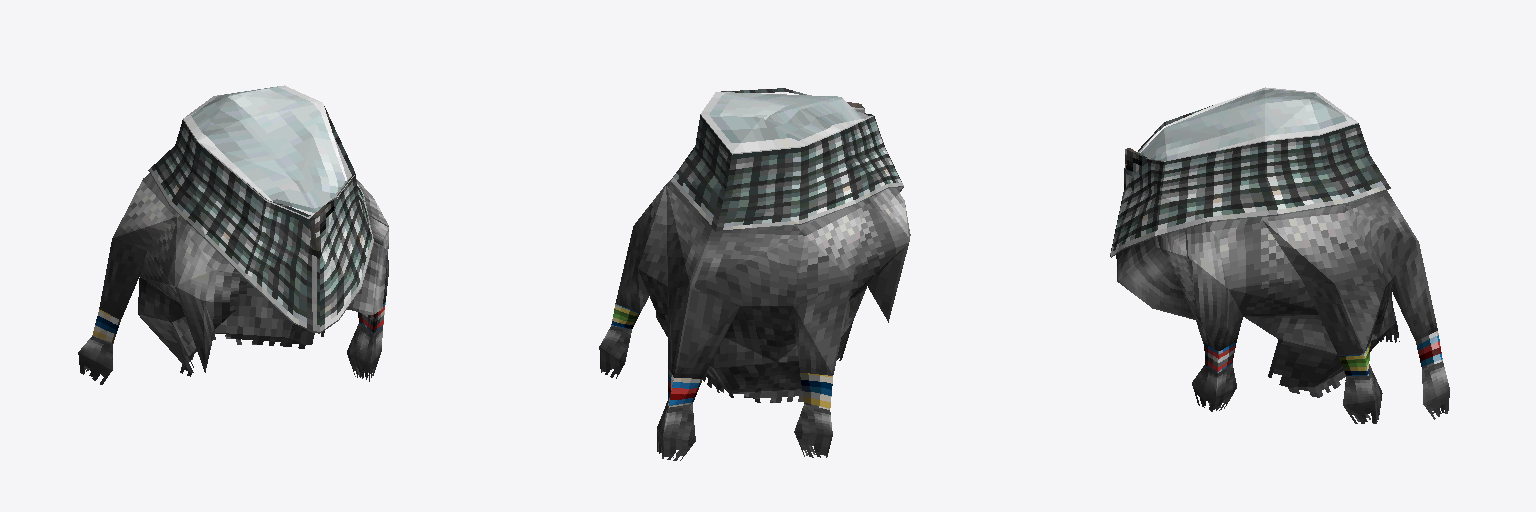
3 renders of one model, left to right at view 1: azimuth 30°, elevation 25°; view 2: azimuth 150°, elevation 25°; view 3: azimuth 270°, elevation 25°, orthographic.
Parts seen in each view (by area): view 1: mesh00; view 2: mesh00; view 3: mesh00.
Part boxes in pixels (bbox=[...]): mesh00: bbox=[78, 85, 388, 384]; mesh00: bbox=[599, 88, 910, 460]; mesh00: bbox=[1110, 87, 1449, 423].
Bounding box in the file's own units: 23.09 × 27.57 × 28.04.
Materials: 1 (1 with a texture image).